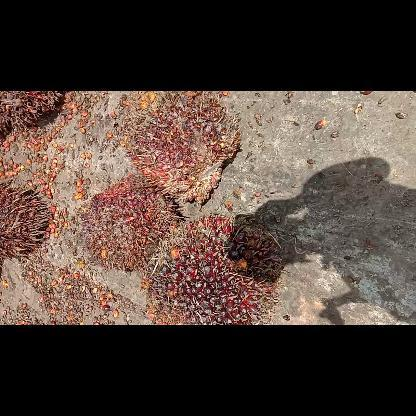Kurang masak: (117, 92, 243, 208)
TBS masak: (148, 213, 283, 323), (82, 176, 182, 272)
